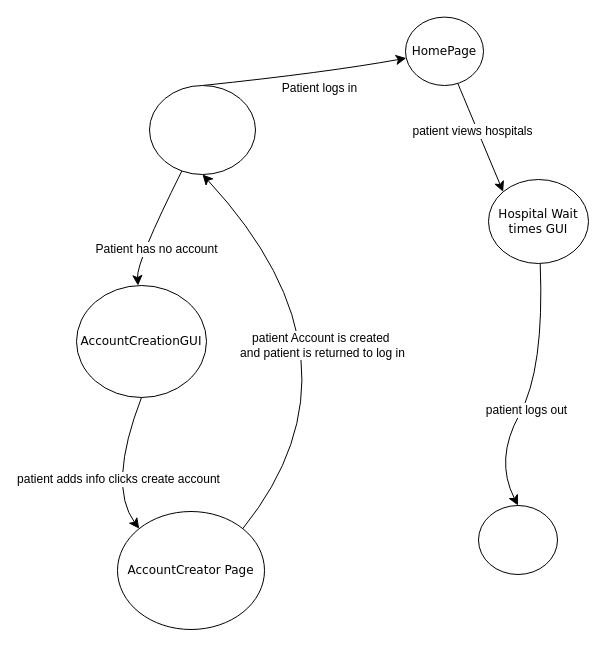
This 607x648 diagram has some shape labels left out. The shapes that lost their labels are listed below. From the top down, each one's centre as x and y in pixels, then its label:
the point at 202,129: Login GUI
the point at 518,539: Logout GUI
